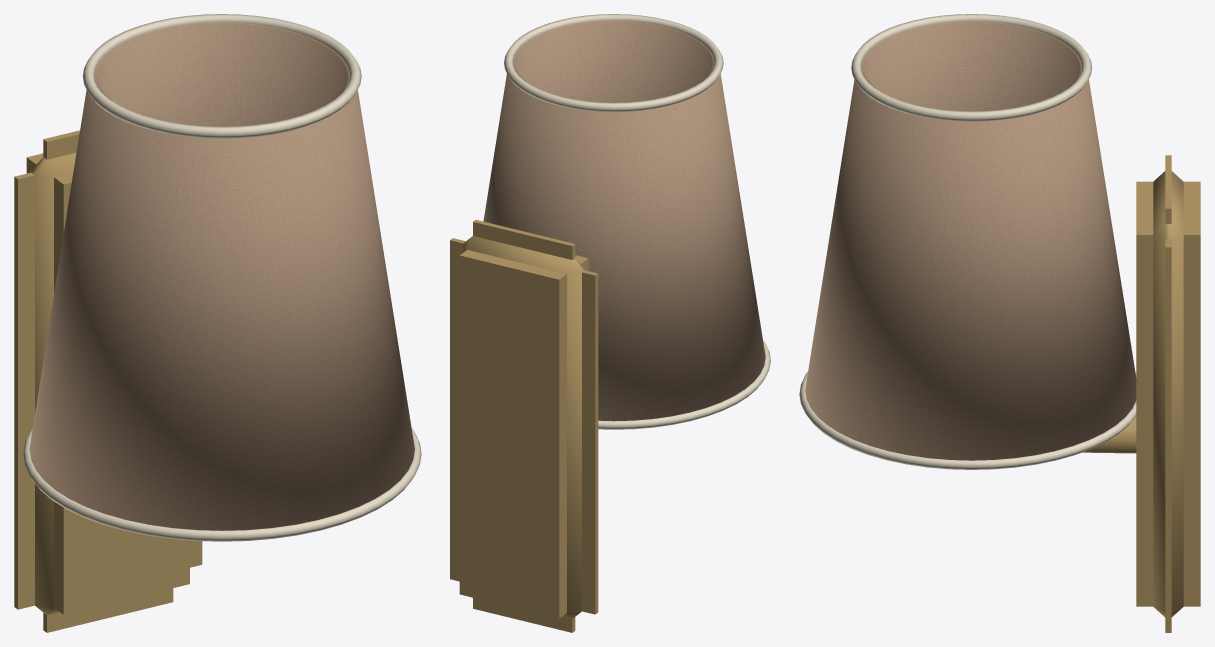
Rendered from country.wall_light.gltf.
3 views of the same model, side by side, from view 1: azimuth 30°, elevation 25°; view 2: azimuth 150°, elevation 25°; view 3: azimuth 270°, elevation 25° (orthographic). The views are drawn at different scales.
Visible parts, largest first — view 1: country.wall_light.wall-plate; view 2: country.wall_light.wall-plate; view 3: country.wall_light.wall-plate.
Boxes of the visible parts, x1=… form: country.wall_light.wall-plate: x1=14, y1=14, x2=421, y2=632; country.wall_light.wall-plate: x1=450, y1=14, x2=770, y2=632; country.wall_light.wall-plate: x1=799, y1=14, x2=1200, y2=632.
Bounding box in the file's own units: 0.134 × 0.2327 × 0.156.
4 materials, 1 textured.
